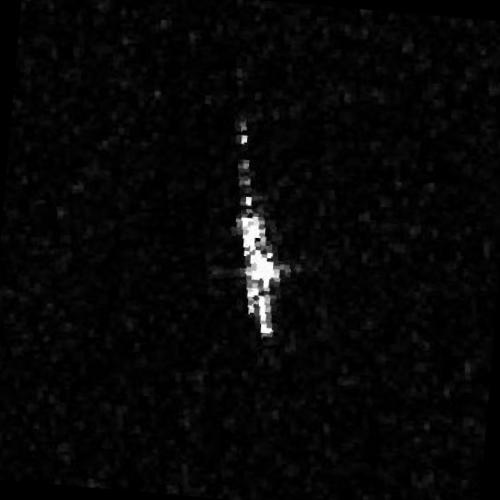ship: (239, 189, 274, 336)
